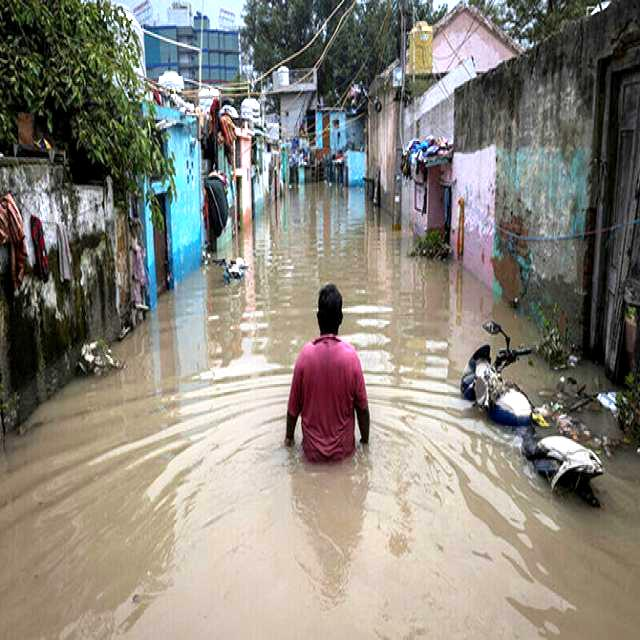civilian: (279, 276, 380, 494)
